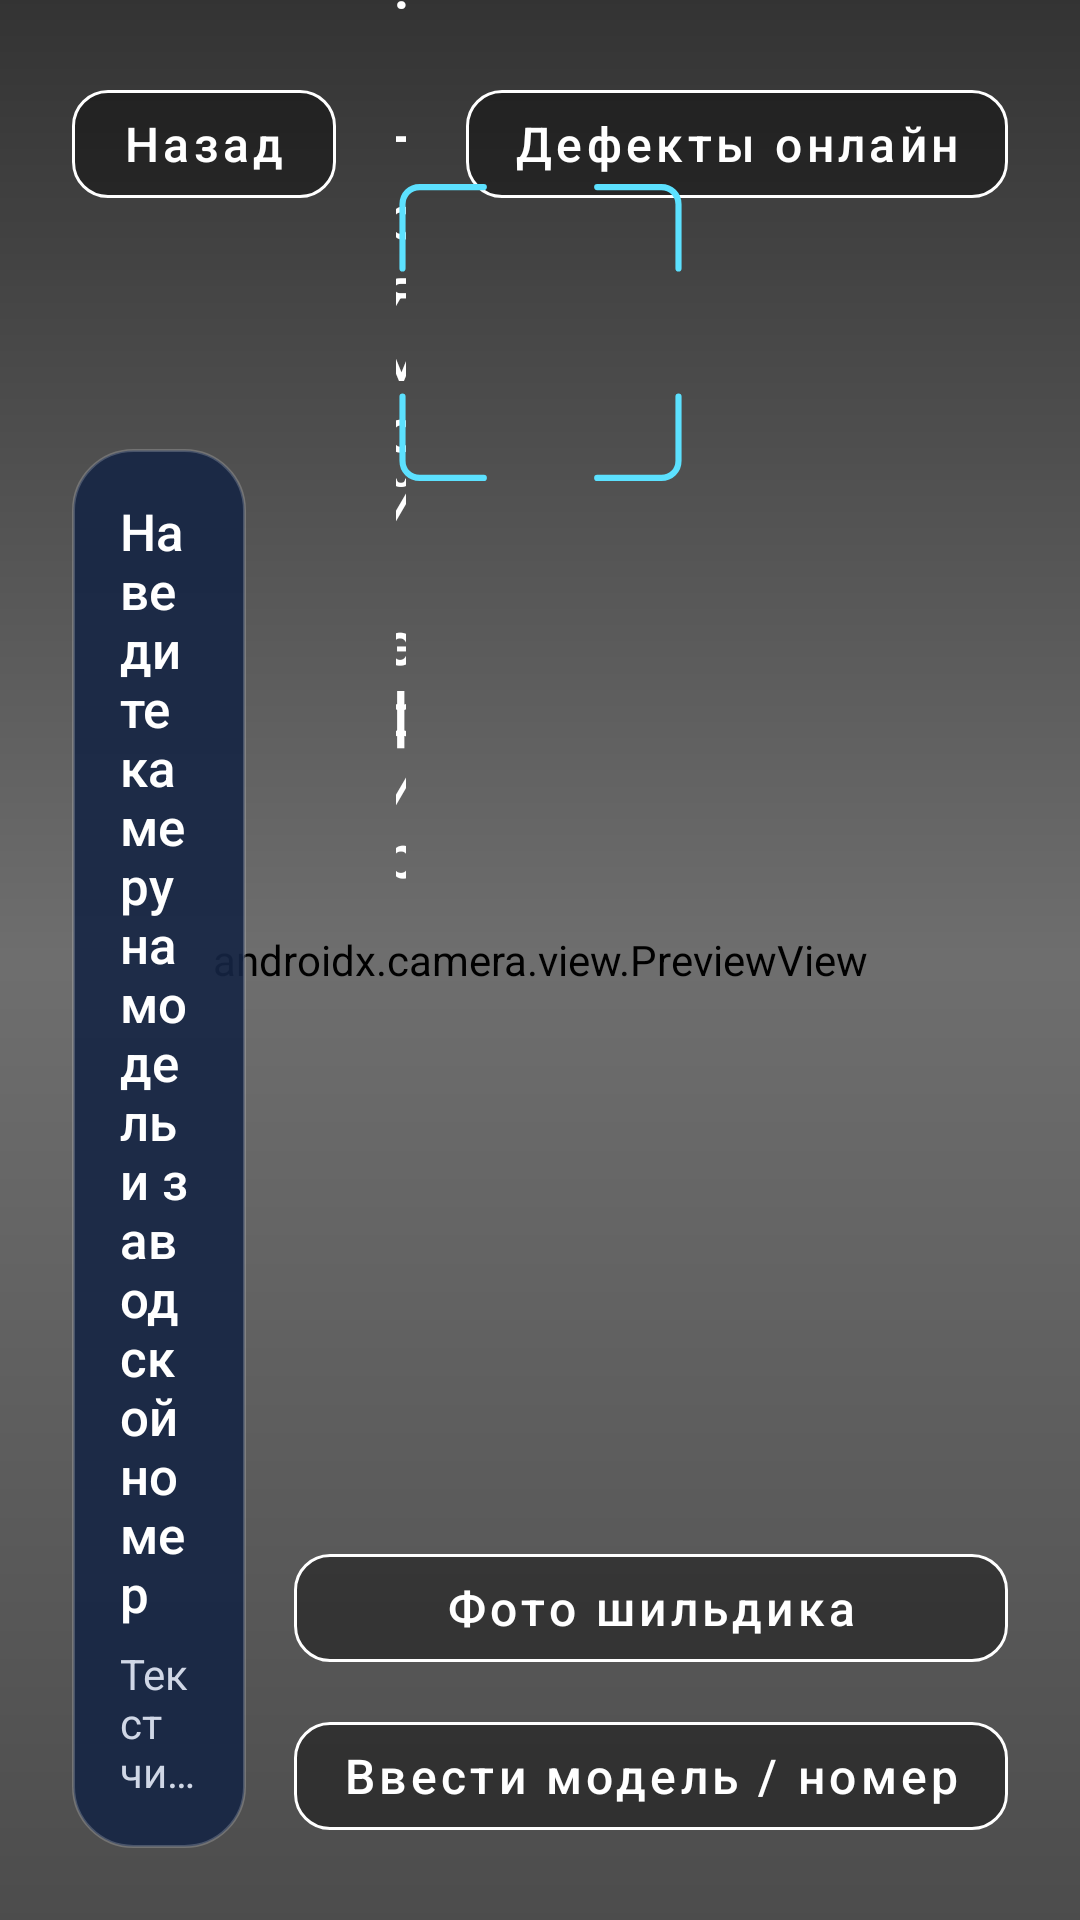

Screen size 1080*1920. Icon name, then its box in pixels as bbox=(x1, y1, x2, y2):
Рамка для чтения модели и заводского номера: bbox=(396, 160, 713, 505)
